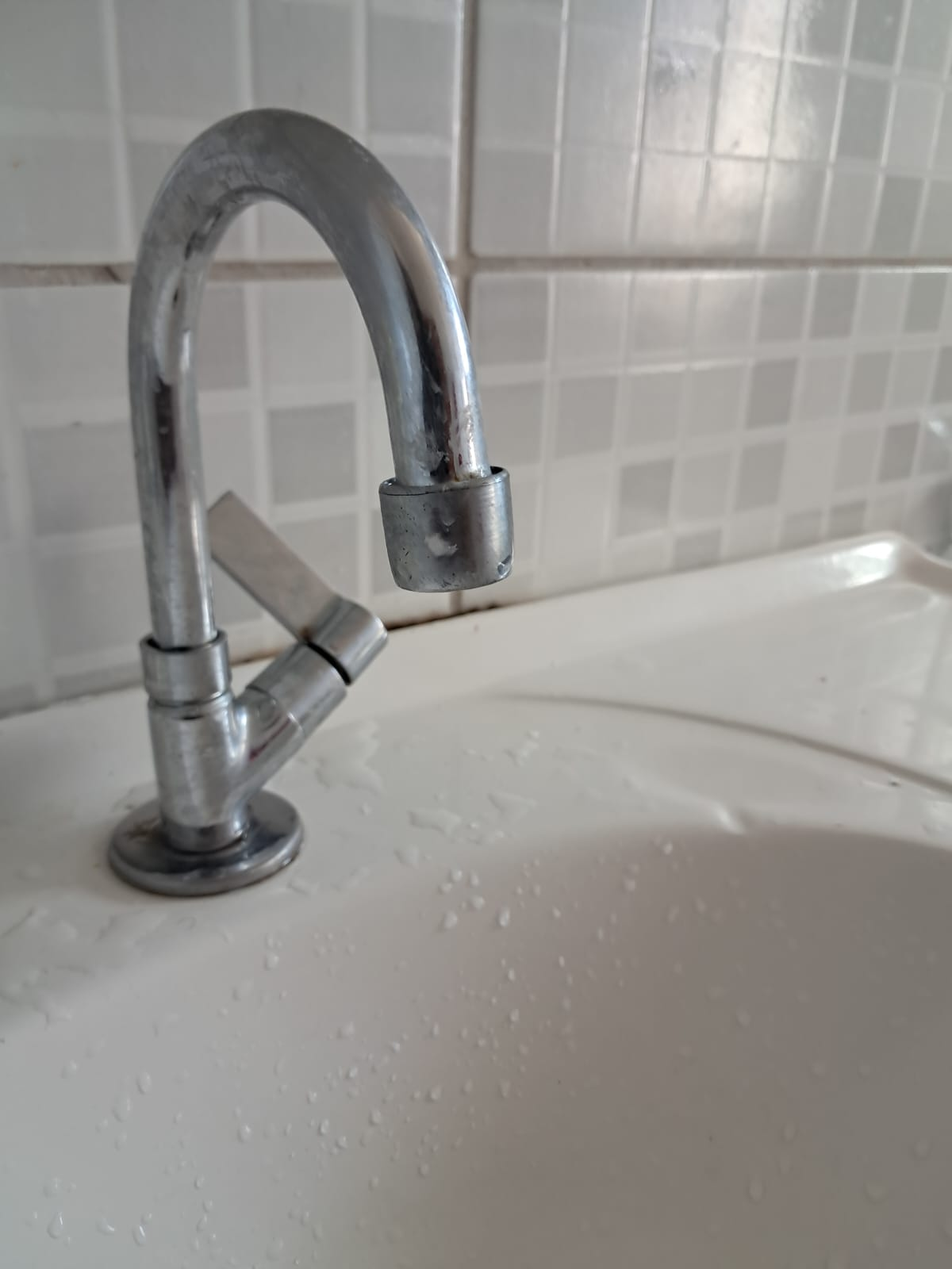torneira_fechada: (35, 70, 549, 923)
